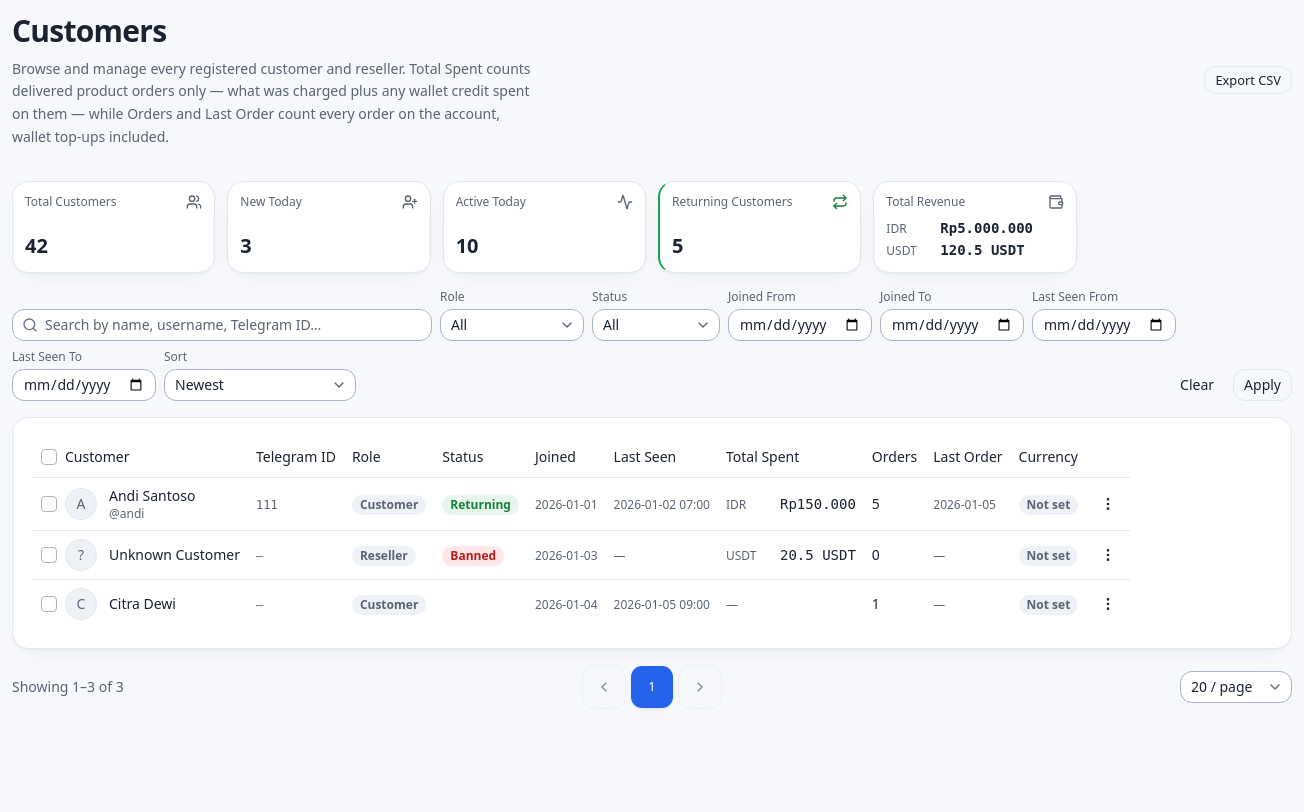
Test: UsersPage › row checkbox selection surfaces the sticky bulk bar with an Export link containing ids=, and Clear hides it
Check: the text "Andi Santoso" is shown, box [109,486,195,506]
Click the checkbox named "select customer andi santoso" at (49, 504), box [41,496,57,512]
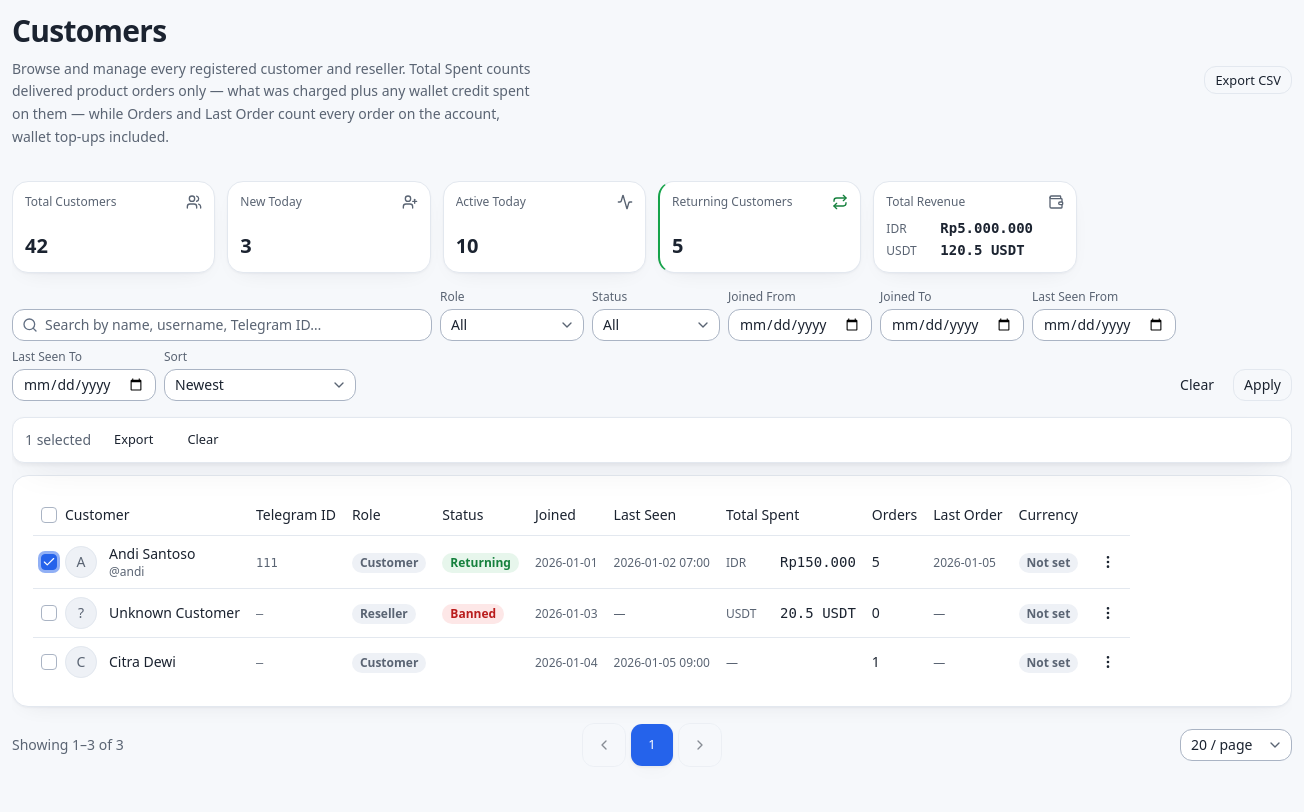
Check: the text "1 selected" is shown, box [25,430,91,450]
Click the button "Clear" in the row of "selected" at (203, 440), box [176,426,230,454]
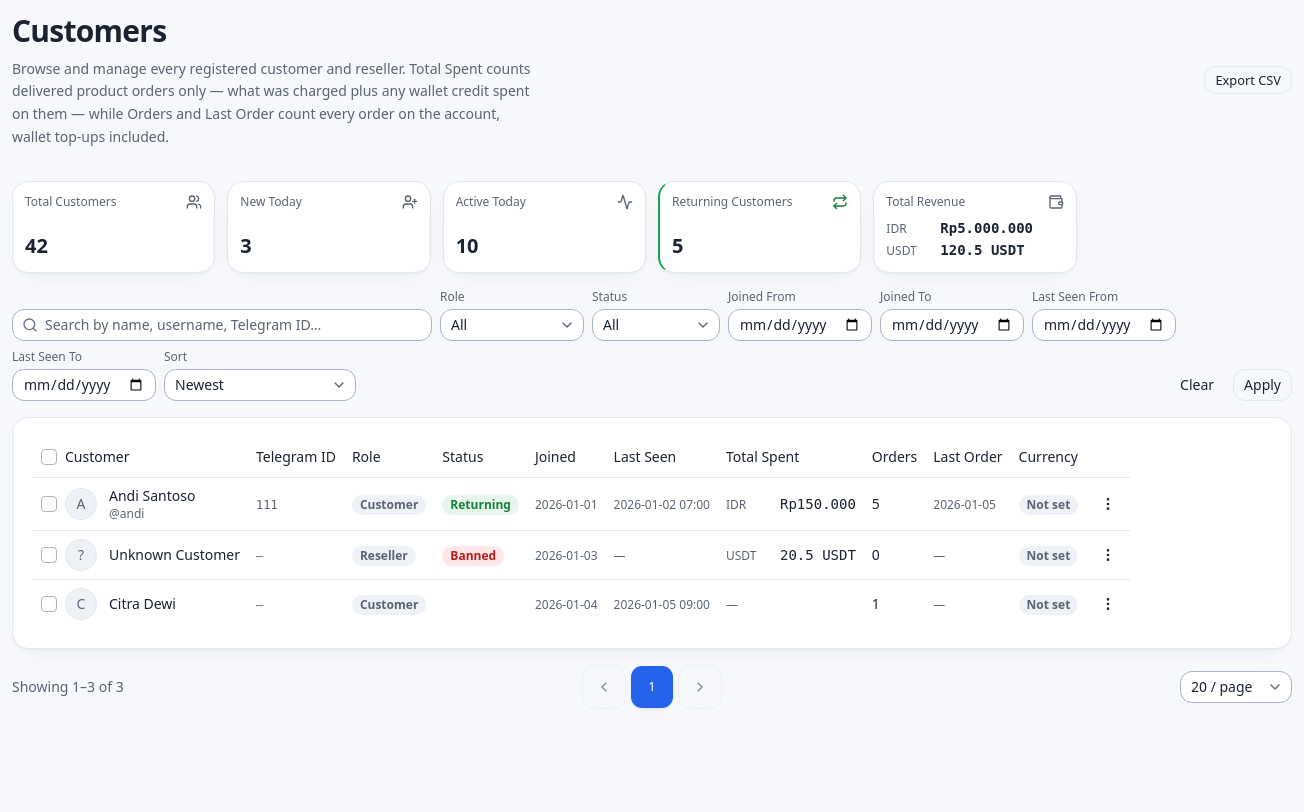
Check: the text "1 selected" is gone
